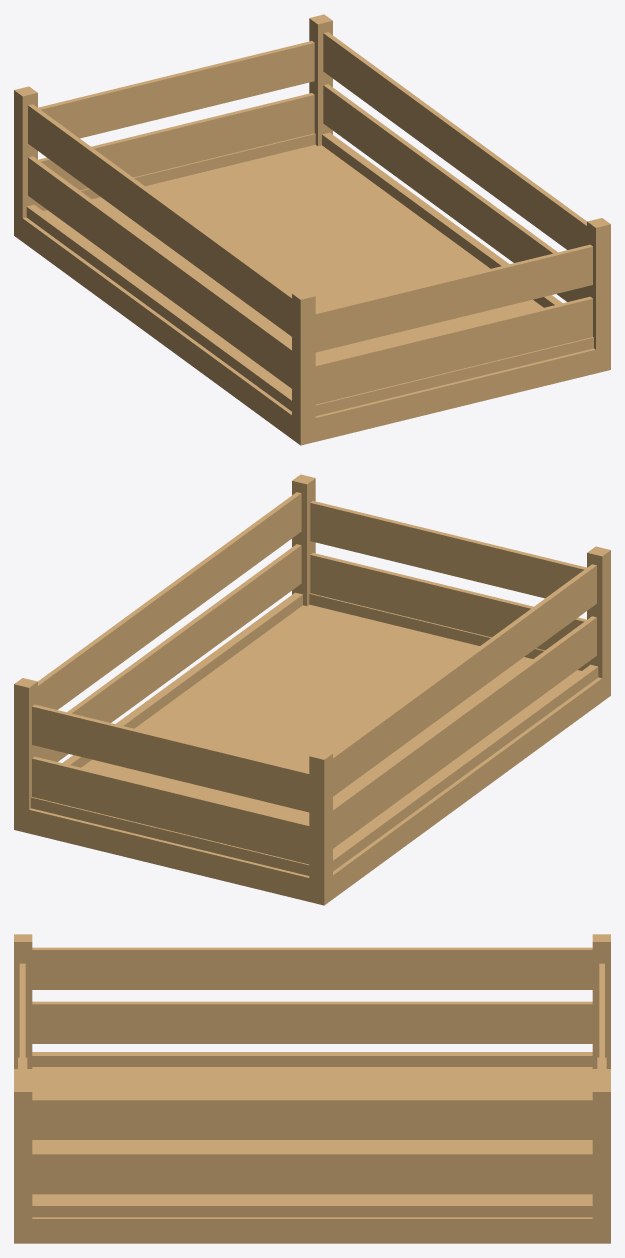
Rendered from Ma_Fruit_Box.fbx.
3 renders of one model, top to bottom at view 1: azimuth 30°, elevation 25°; view 2: azimuth 150°, elevation 25°; view 3: azimuth 270°, elevation 25°, orthographic. The views are drawn at different scales.
Parts seen in each view (by area): view 1: Ma_Fruit_Box; view 2: Ma_Fruit_Box; view 3: Ma_Fruit_Box.
Part boxes in pixels (left/top/right/bottom): Ma_Fruit_Box: left=14, top=14, right=610, bottom=445; Ma_Fruit_Box: left=14, top=474, right=610, bottom=905; Ma_Fruit_Box: left=14, top=934, right=610, bottom=1243.
Size of the model in its own units: 325 by 520 by 146.
